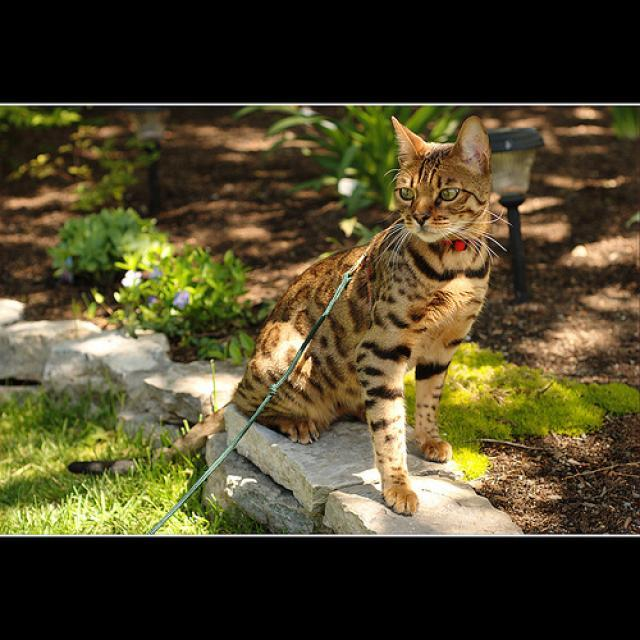Bengal: (379, 110, 507, 249)
